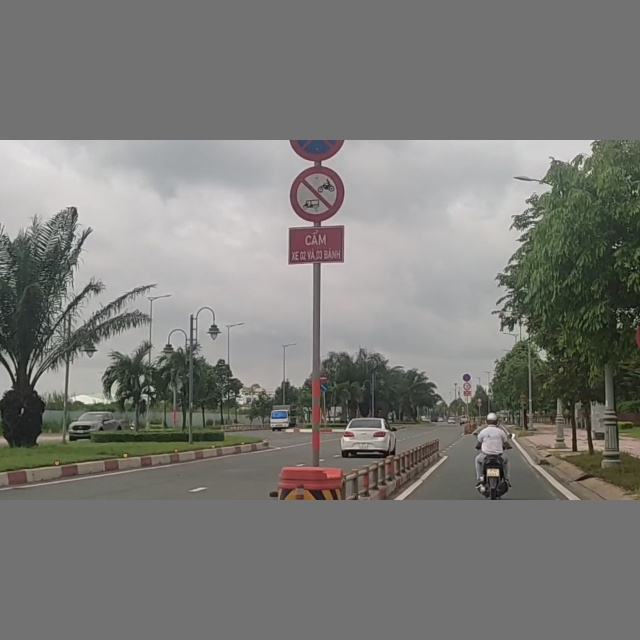P.111: (284, 161, 347, 225)
